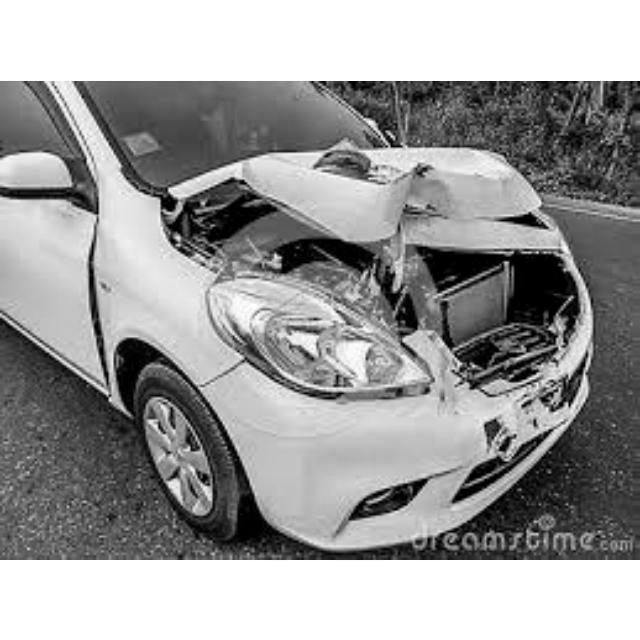bonnet-dent: (173, 147, 541, 253)
doorouter-dent: (32, 186, 108, 386)
front-bumper-dent: (445, 317, 605, 485)
